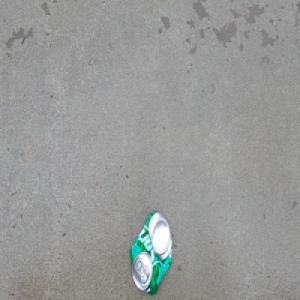SodaCan: (128, 208, 173, 296)
